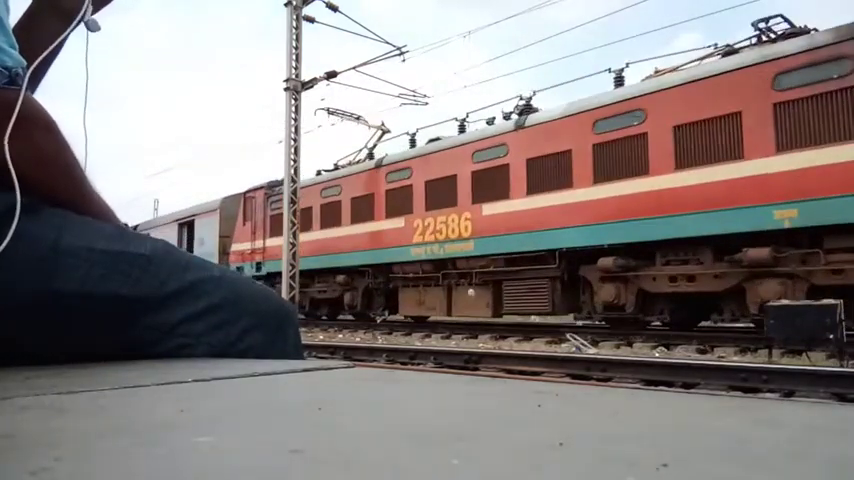Boogie: (410, 209, 489, 241)
